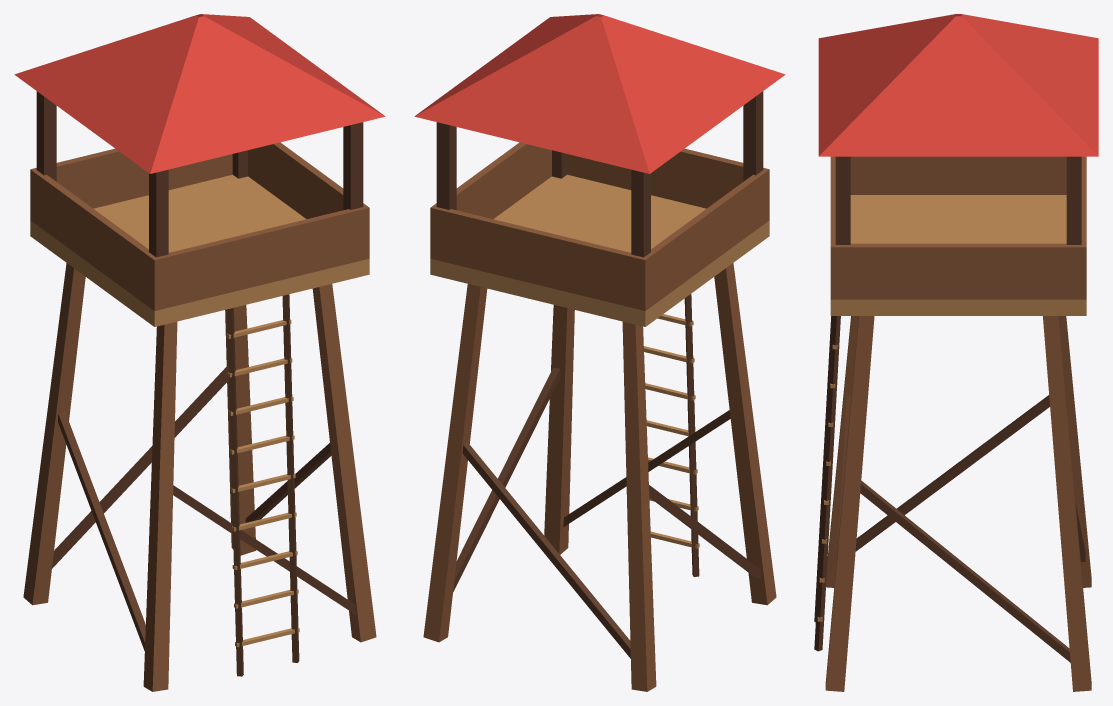
The model's file is CA_Torre_Vigia.obj.
The picture shows the model from 3 angles, left to right: view 1: azimuth 30°, elevation 25°; view 2: azimuth 150°, elevation 25°; view 3: azimuth 270°, elevation 25°; orthographic projection. The views are drawn at different scales.
Parts seen in each view (by area): view 1: CA_Torre_Vigia; view 2: CA_Torre_Vigia; view 3: CA_Torre_Vigia.
Part boxes in pixels (box(x1,y1,x2,y2)): CA_Torre_Vigia: box(14, 14, 385, 691); CA_Torre_Vigia: box(414, 14, 785, 691); CA_Torre_Vigia: box(814, 14, 1098, 691).
Size of the model in its own units: 3.39 by 8.32 by 3.45.
